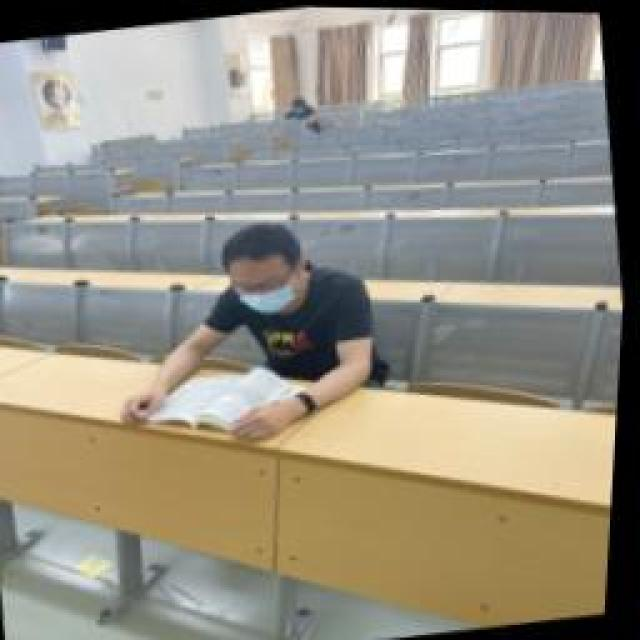study: (100, 203, 395, 455)
